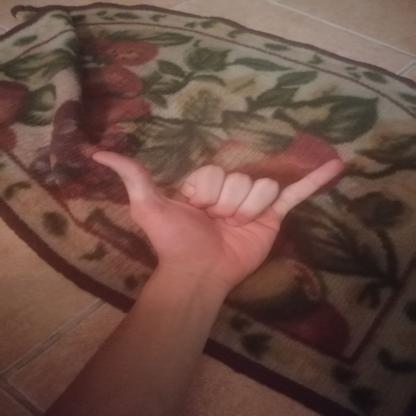YA: (71, 135, 366, 299)
